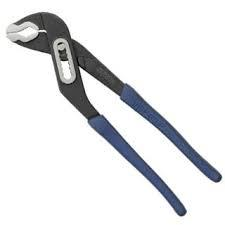pliers: (4, 10, 222, 224)
